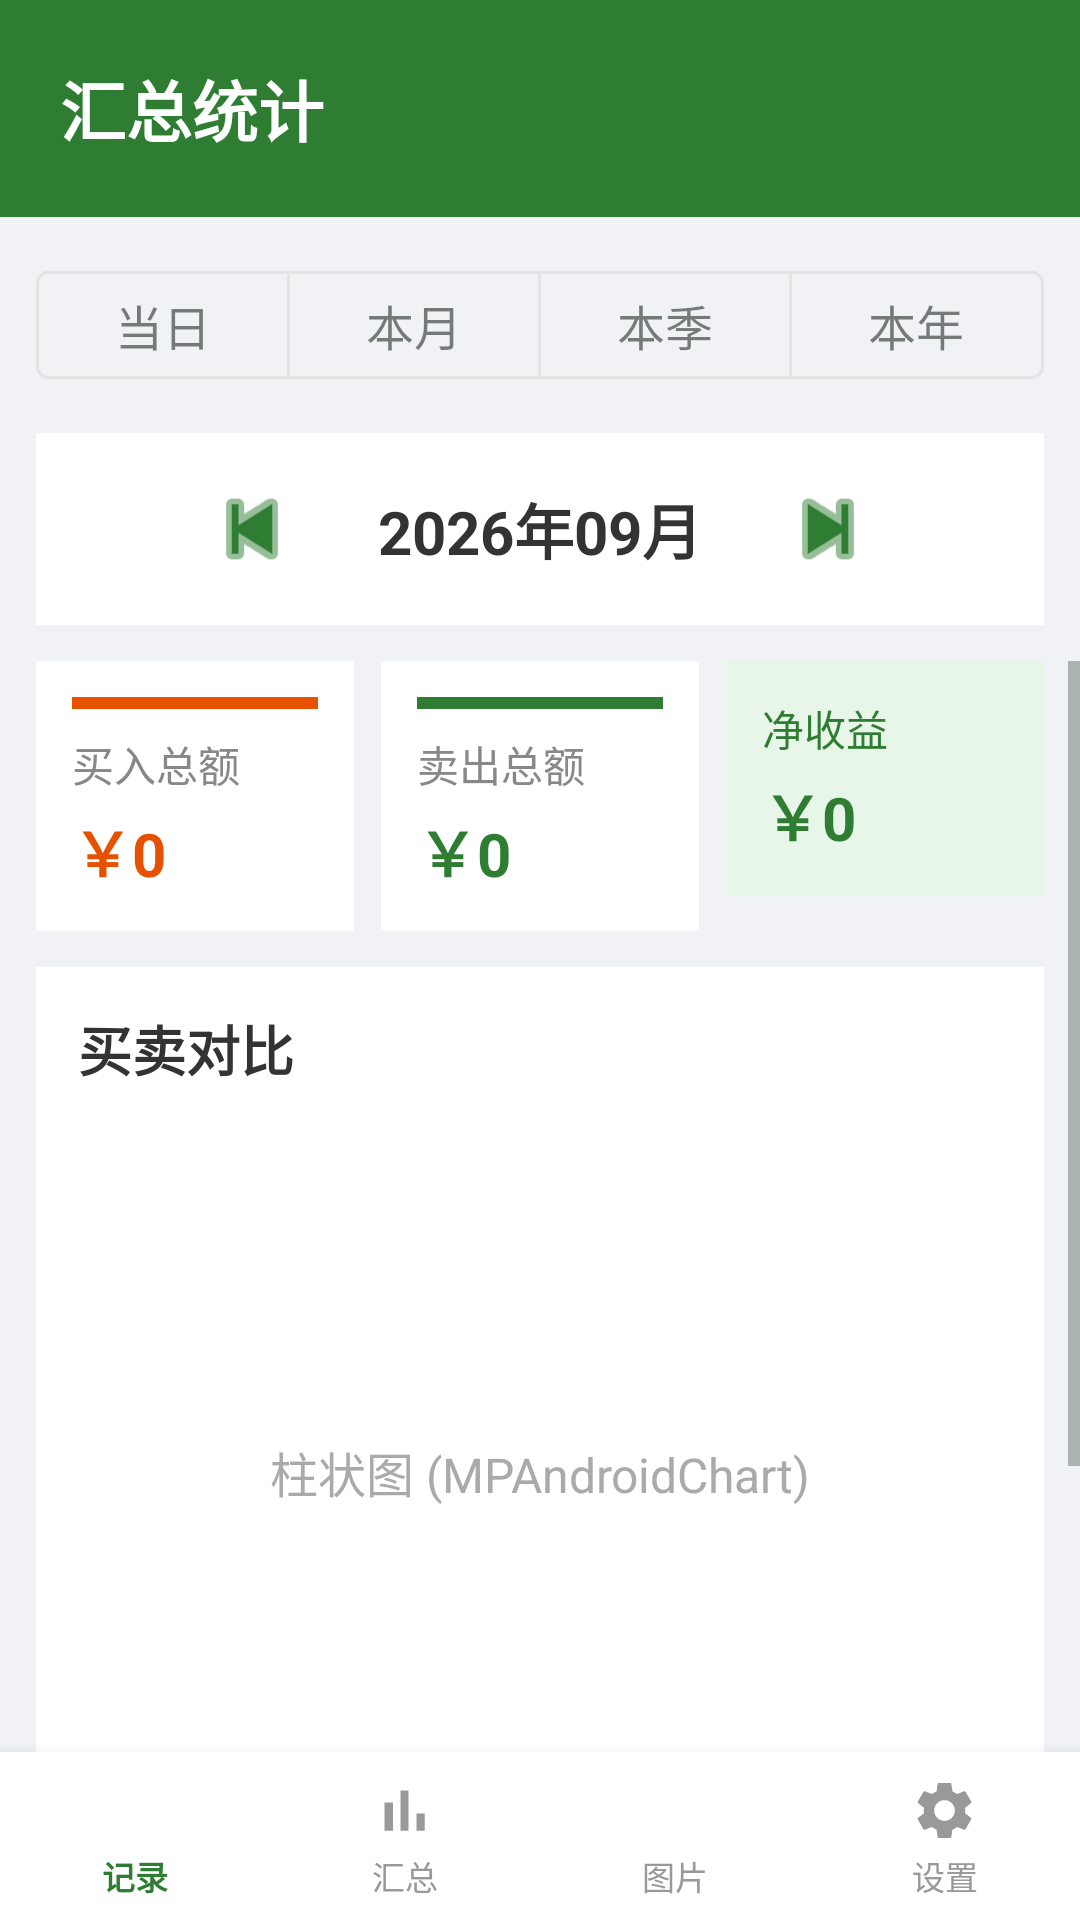

Icon bounding boxes for this 1080w x 1920h phone screenshot, format (x1, y1, x2, y2):
上一个: (226, 498, 278, 560)
下一个: (802, 498, 854, 560)
